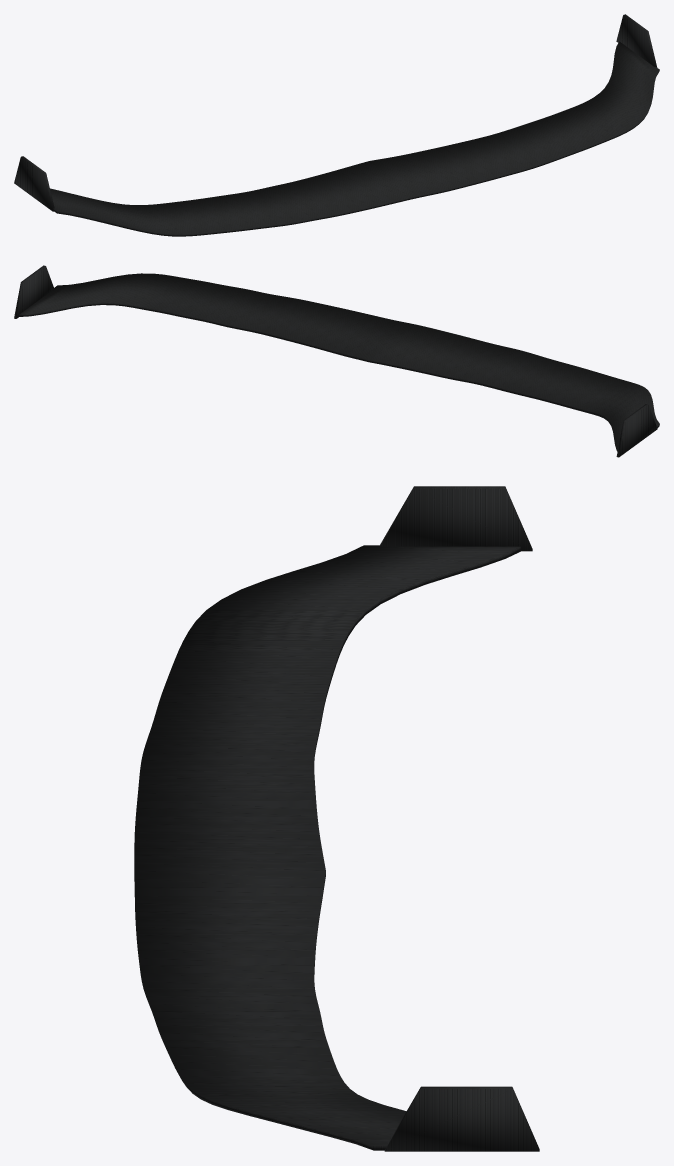
Rendered from WB10_widebody_lip.glb.
3 renders of one model, top to bottom at view 1: azimuth 30°, elevation 25°; view 2: azimuth 150°, elevation 25°; view 3: azimuth 270°, elevation 25°, orthographic. The views are drawn at different scales.
Parts seen in each view (by area): view 1: MOD_NA_WB10_blade, MOD_NA_WB10_fence_R, MOD_NA_WB10_fence_L; view 2: MOD_NA_WB10_blade, MOD_NA_WB10_fence_R, MOD_NA_WB10_fence_L; view 3: MOD_NA_WB10_blade, MOD_NA_WB10_fence_L, MOD_NA_WB10_fence_R.
Boxes of the visible parts, x1,y1,x2,y2 form: MOD_NA_WB10_blade: [50, 41, 659, 236]; MOD_NA_WB10_fence_R: [14, 156, 54, 211]; MOD_NA_WB10_fence_L: [616, 14, 657, 67]; MOD_NA_WB10_blade: [19, 273, 659, 451]; MOD_NA_WB10_fence_R: [616, 404, 657, 457]; MOD_NA_WB10_fence_L: [14, 265, 54, 318]; MOD_NA_WB10_blade: [134, 545, 520, 1150]; MOD_NA_WB10_fence_L: [384, 1086, 539, 1151]; MOD_NA_WB10_fence_R: [380, 486, 532, 551].
Bounding box in the file's own units: 1.53 × 0.1176 × 0.4441.
Materials: 1 (1 with a texture image).
